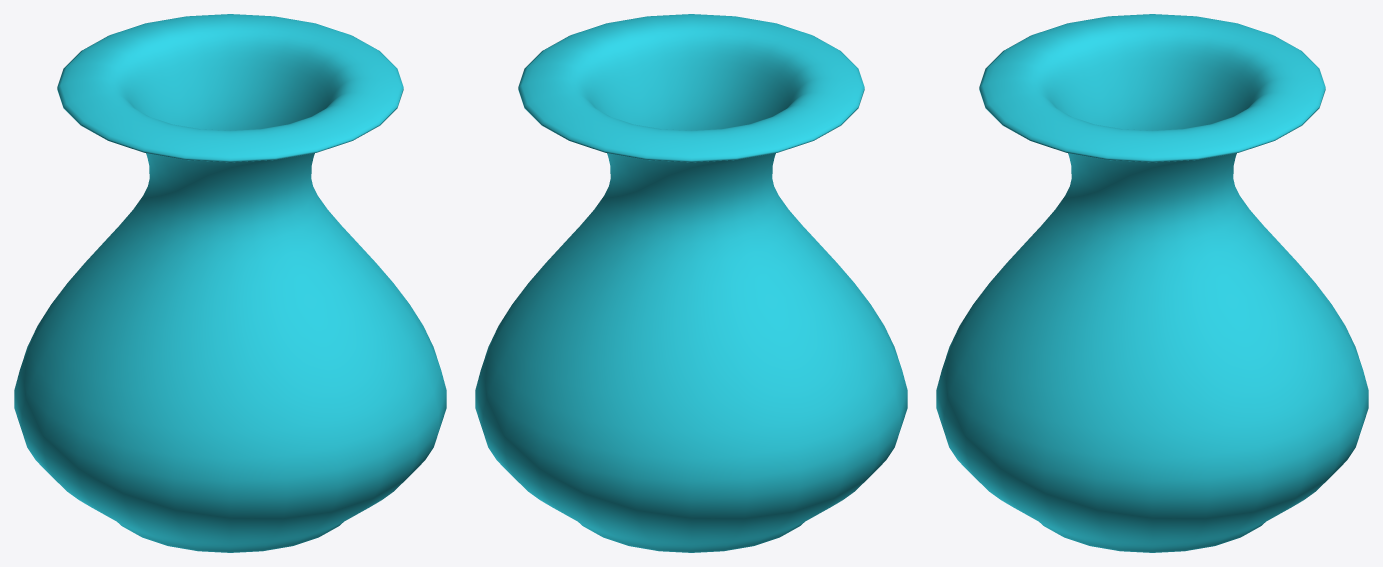
File: CapstoneVase.fbx
3 renders of one model, left to right at view 1: azimuth 30°, elevation 25°; view 2: azimuth 150°, elevation 25°; view 3: azimuth 270°, elevation 25°, orthographic.
Visible parts, largest first — view 1: Cylinder; view 2: Cylinder; view 3: Cylinder.
Boxes of the visible parts, x1,y1,x2,y2 form: Cylinder: [14, 14, 446, 552]; Cylinder: [475, 14, 907, 552]; Cylinder: [936, 14, 1368, 552].
Bounding box in the file's own units: 421 × 458 × 422.
